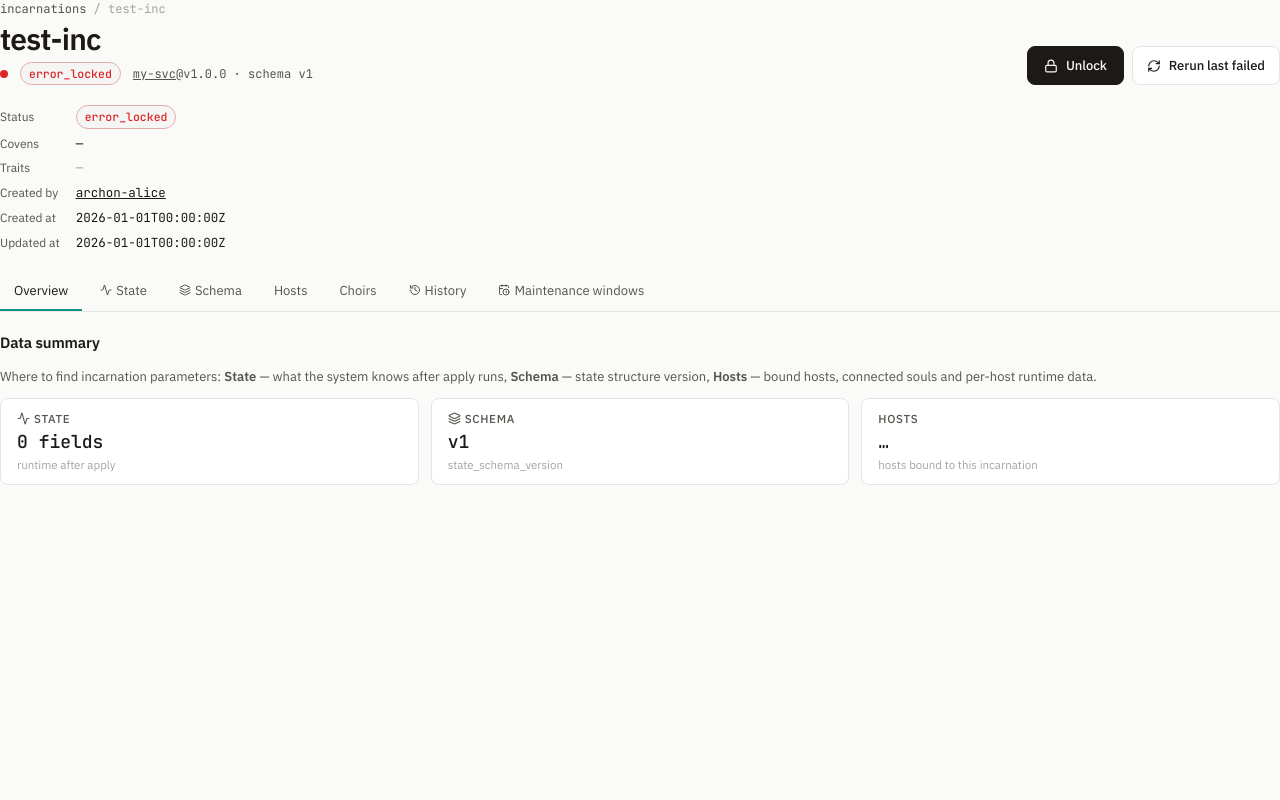
Test: RerunLastModal — reason validation › does not send a request when reason is empty
This screenshot has width=1280, height=800.
Expected: the heading "test-inc" is shown, [0,19,101,58]
Click the button "Rerun last failed" at (1206, 66), box [1132,46,1279,85]
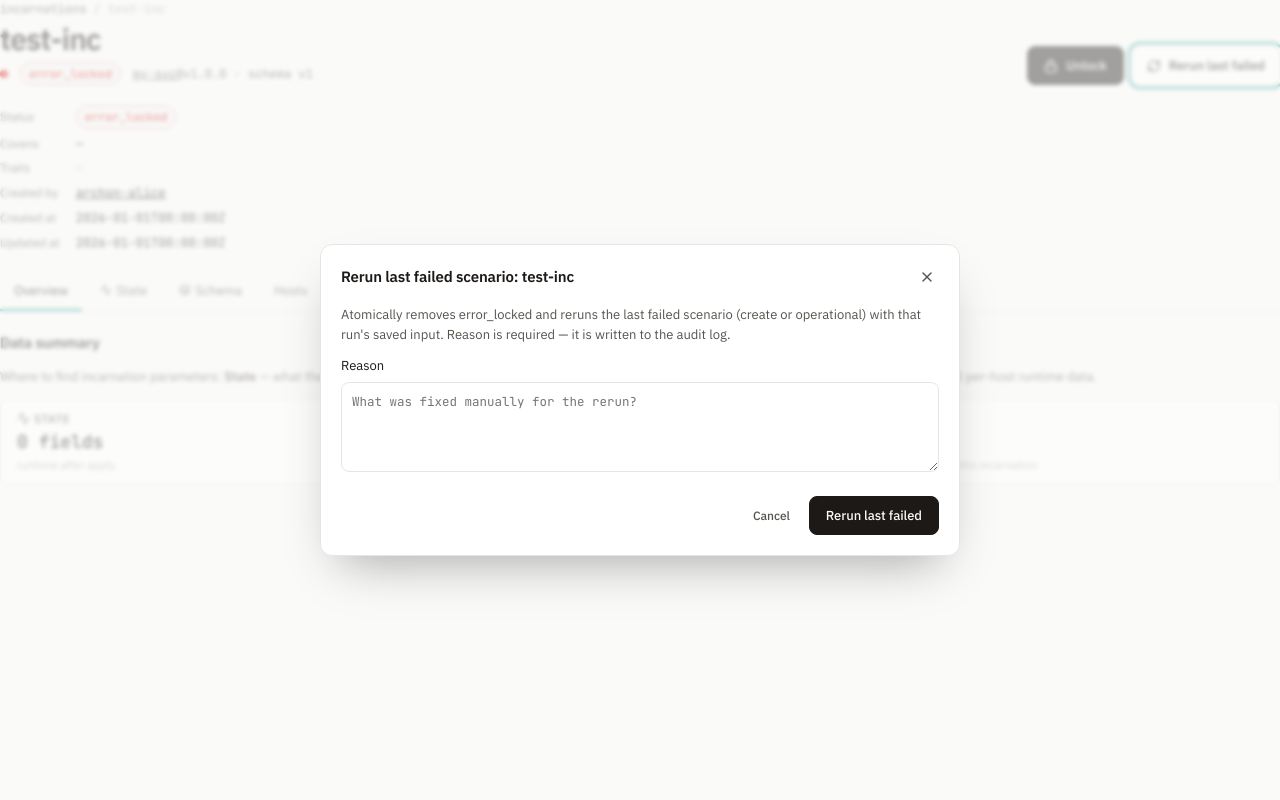
Expected: the dialog is shown, [320,244,960,556]
Click the button "Rerun last failed" at (874, 515), box [809,496,939,535]
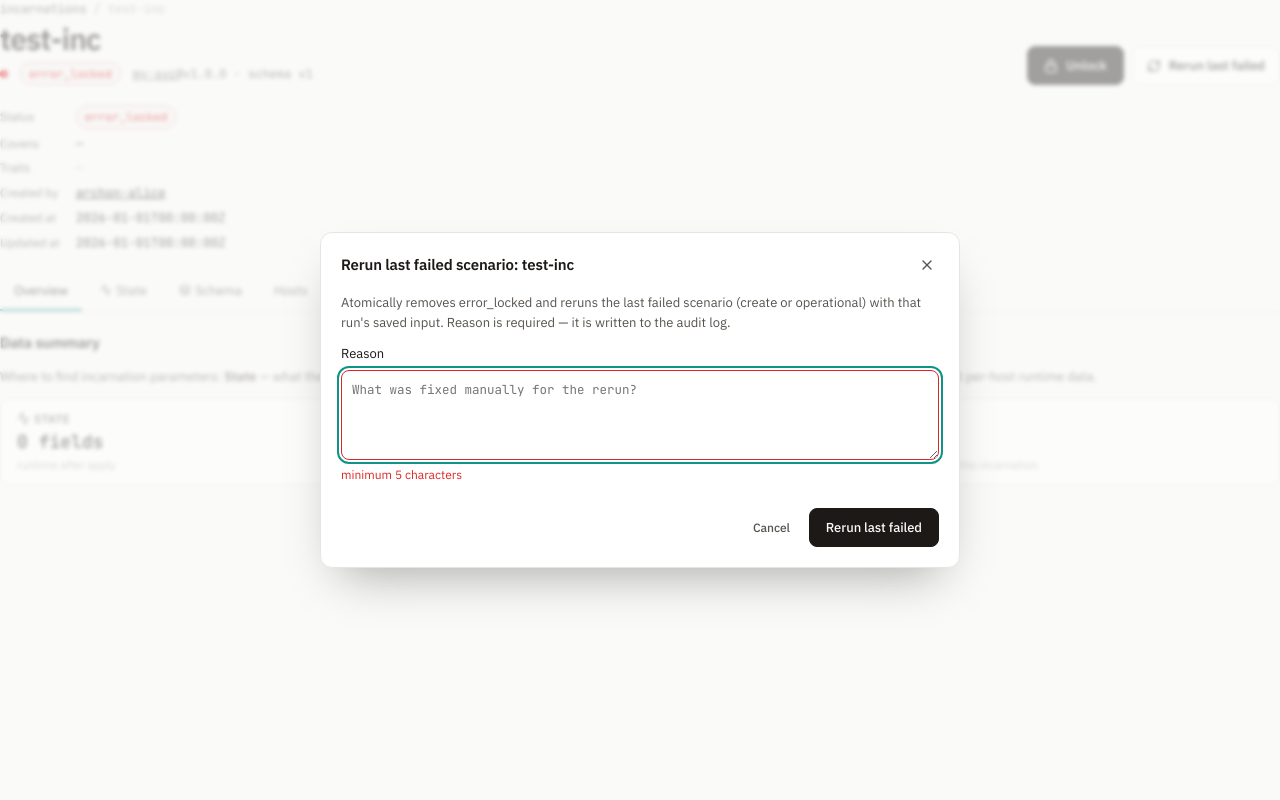
Expected: the text "minimum 5 characters" is shown, [341,467,462,482]
